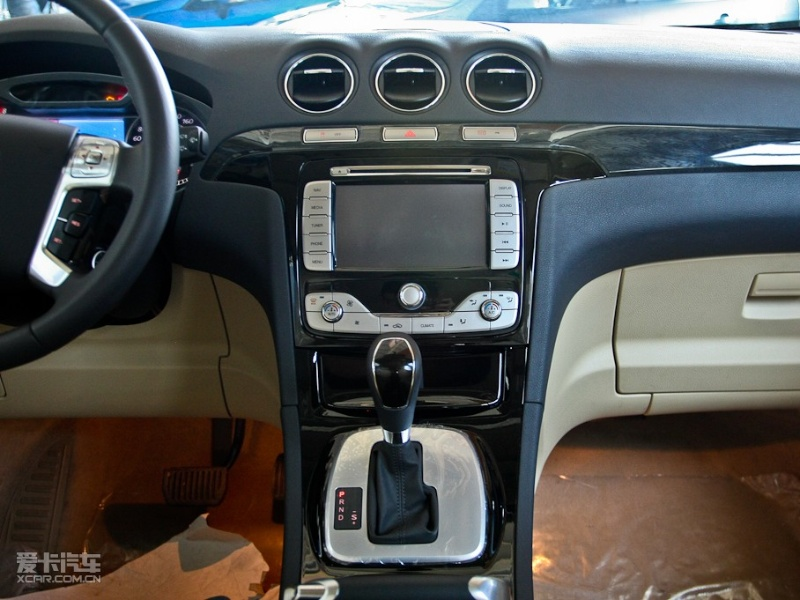control_center: (244, 19, 555, 334)
gear_lever: (283, 321, 508, 600)
odometer: (9, 72, 208, 134)
steering_wheel: (1, 13, 198, 360)
